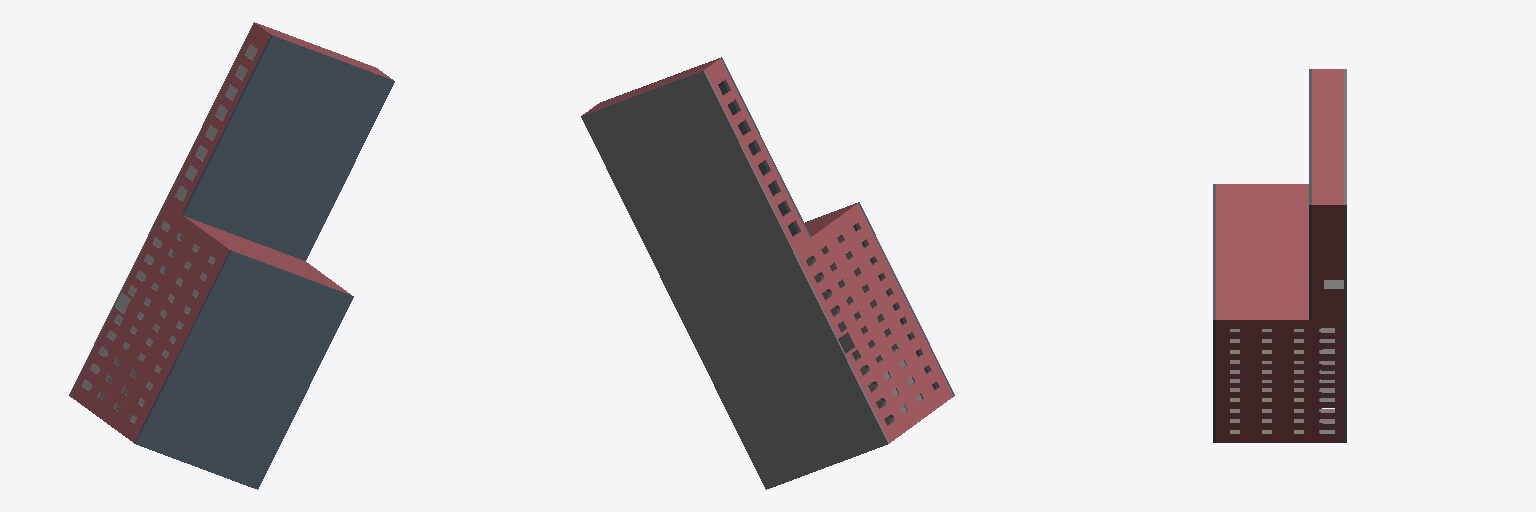
The model's file is Michigan_YMCA.obj.
3 renders of one model, left to right at view 1: azimuth 30°, elevation 25°; view 2: azimuth 150°, elevation 25°; view 3: azimuth 270°, elevation 25°, orthographic.
Visible parts, largest first — view 1: Generic - 12":4, Generic - 12":3, Exterior - Brick on CMU, Exterior - Brick on CMU:4, Exterior - Brick on CMU:3, Generic - 12":6, Generic - 12":5, Exterior - Brick on CMU:6; view 2: Generic - 12":5, Generic - 12":6, Exterior - Brick on CMU, Exterior - Brick on CMU:4, Generic - 12":3, Exterior - Brick on CMU:6, Generic - 12":4; view 3: Exterior - Brick on CMU:2, Exterior - Brick on CMU:3, Exterior - Brick on CMU:6, Exterior - Brick on CMU:5, Generic - 12":4, Generic - 12":6, Generic - 12":3.
Boxes of the visible parts, x1,y1,x2,y2 form: Generic - 12":4: [134, 250, 353, 489]; Generic - 12":3: [182, 35, 394, 260]; Exterior - Brick on CMU: [70, 203, 230, 442]; Exterior - Brick on CMU:4: [166, 23, 272, 213]; Exterior - Brick on CMU:3: [187, 217, 347, 293]; Generic - 12":6: [164, 22, 377, 204]; Generic - 12":5: [69, 204, 170, 395]; Exterior - Brick on CMU:6: [259, 24, 389, 78]; Generic - 12":5: [671, 252, 889, 489]; Generic - 12":6: [581, 70, 794, 297]; Exterior - Brick on CMU: [794, 203, 953, 442]; Exterior - Brick on CMU:4: [702, 58, 809, 249]; Generic - 12":3: [600, 57, 810, 237]; Exterior - Brick on CMU:6: [586, 60, 715, 113]; Generic - 12":4: [805, 202, 954, 395]; Exterior - Brick on CMU:2: [1216, 316, 1343, 439]; Exterior - Brick on CMU:3: [1216, 188, 1308, 315]; Exterior - Brick on CMU:6: [1312, 73, 1343, 200]; Exterior - Brick on CMU:5: [1312, 201, 1343, 319]; Generic - 12":4: [1213, 184, 1215, 442]; Generic - 12":6: [1344, 69, 1346, 320]; Generic - 12":3: [1309, 69, 1311, 319].
Size of the model in its own units: 133 by 167 by 50.